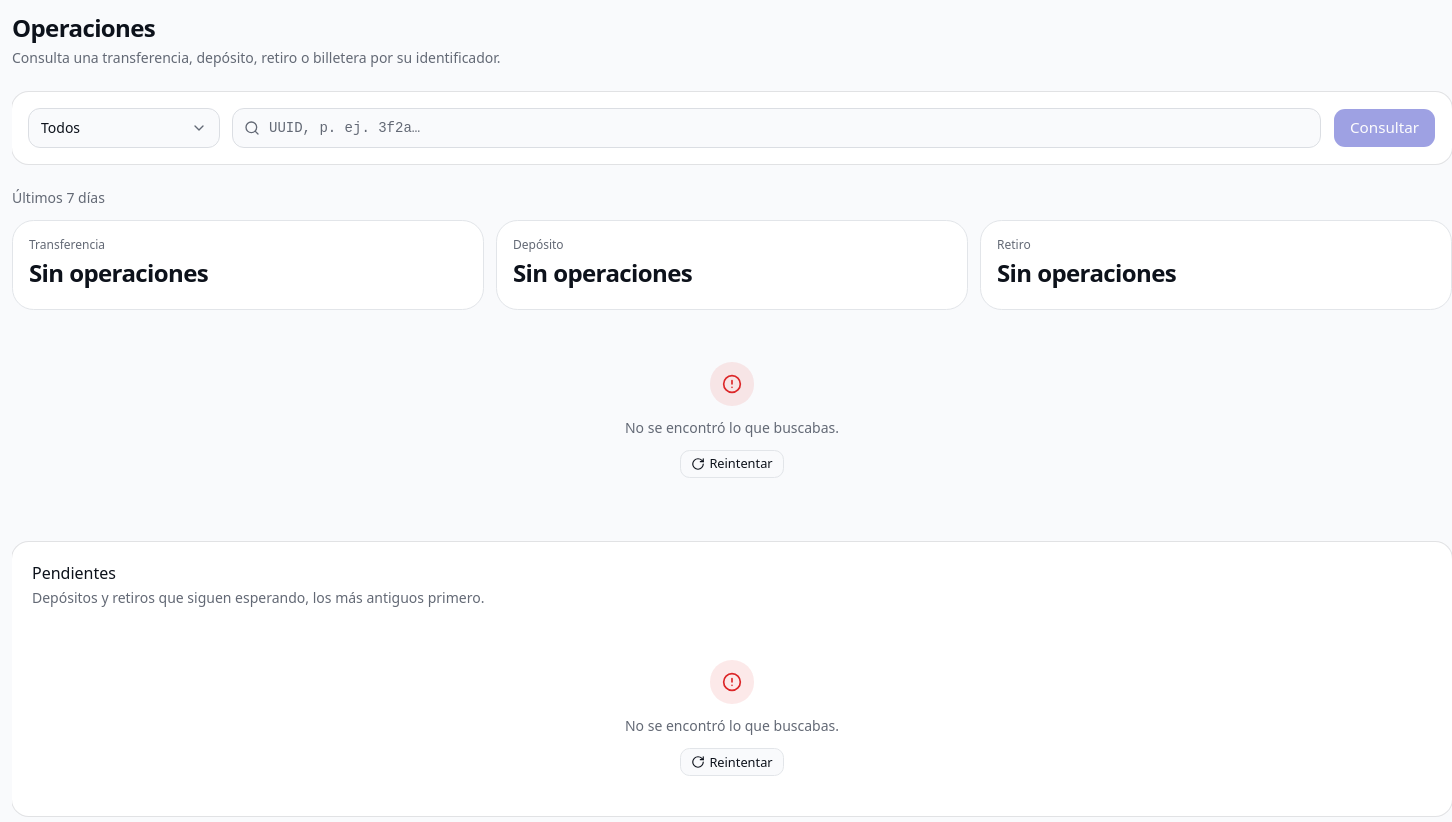
AdminOperationsPage › still shows the operation when another type fails
Type "3f2a91bc-1111-4222-8333-444455556666" into the dropdown named "Identificador" at coordinates (776, 128), box [232, 108, 1321, 148]
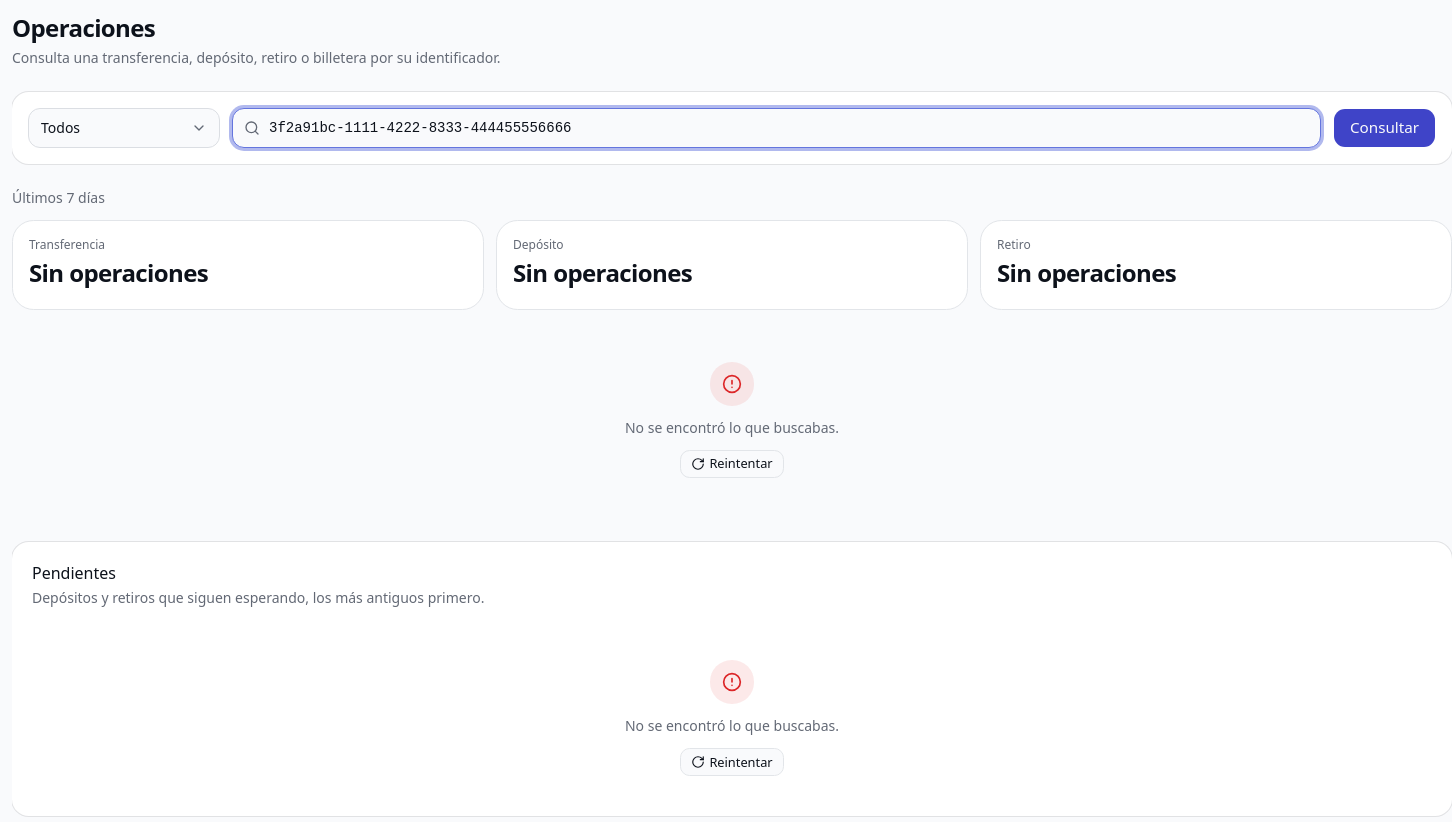
Click the button "Consultar" at coordinates (1384, 128), box [1333, 108, 1436, 148]
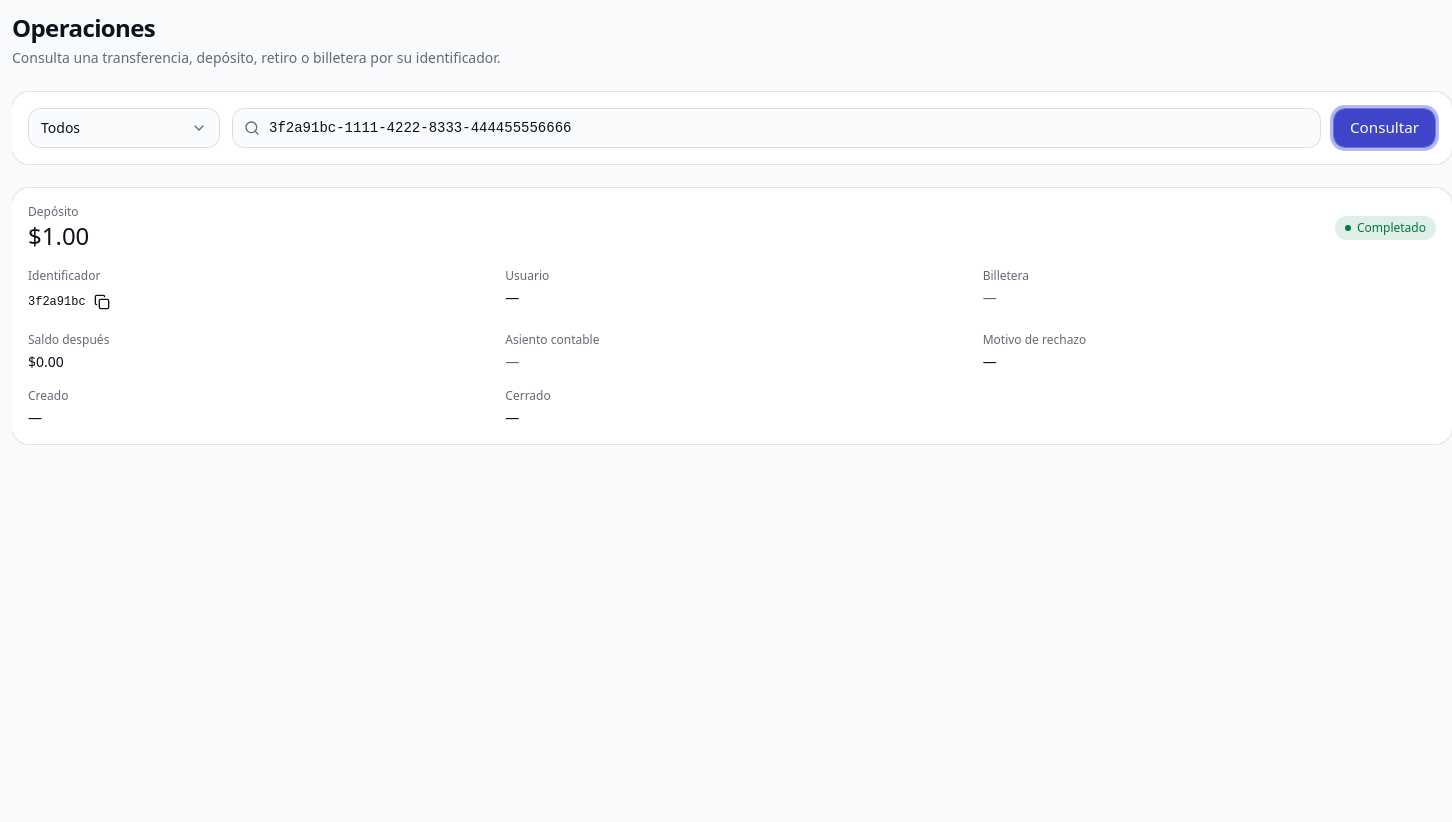
Expected: the text "Depósito" is shown, [28, 203, 79, 220]
Result: the message "No se encontró lo que buscabas. Reintentar" is gone
